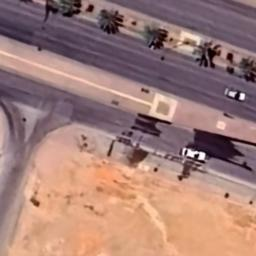sedan: (180, 143, 210, 164), (223, 86, 247, 104)
